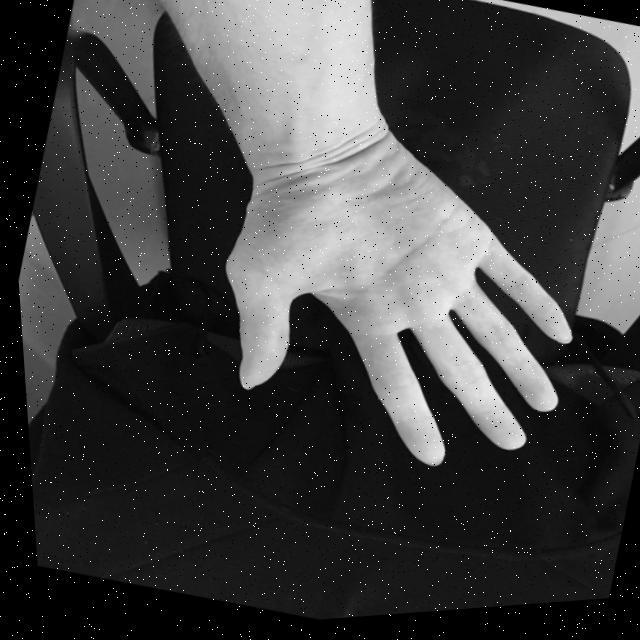no-gloves: (158, 43, 636, 518)
